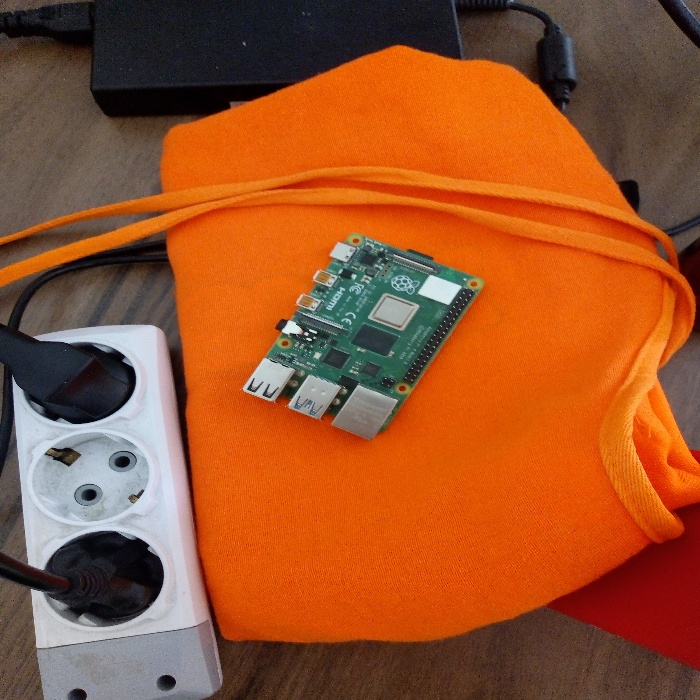raspberry: (233, 231, 490, 433)
